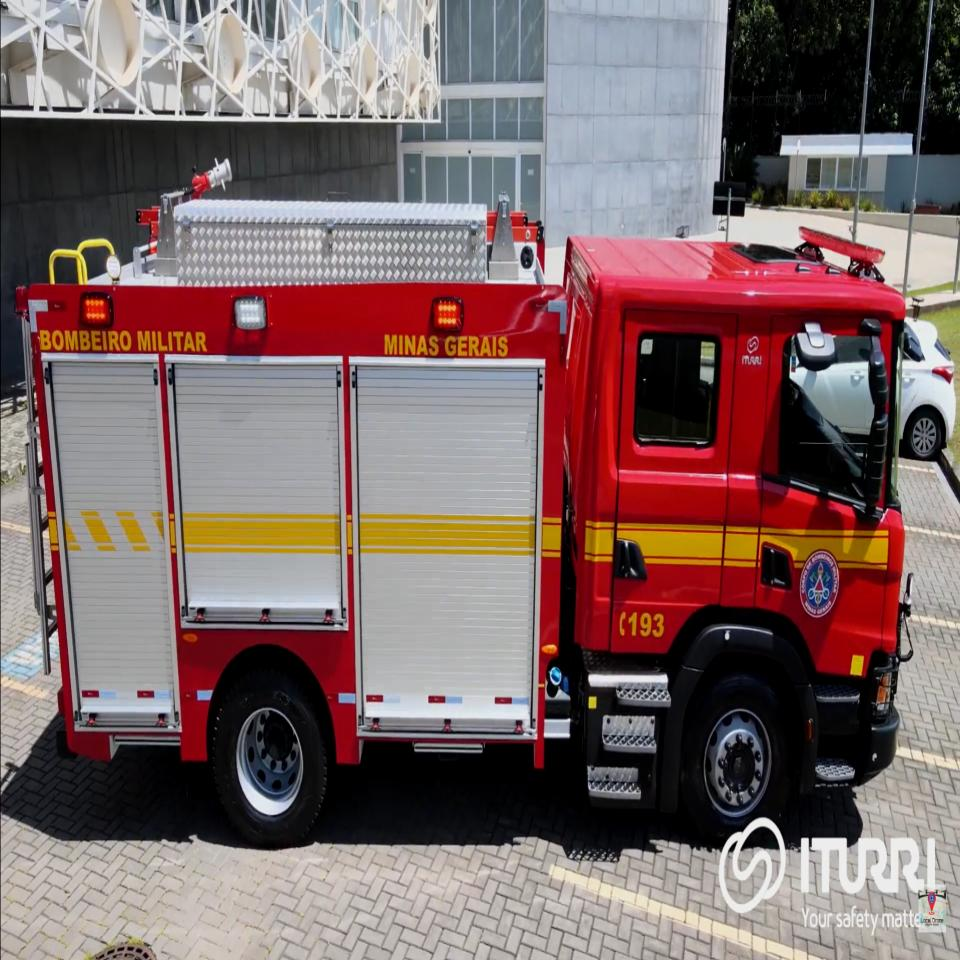bombeiro: (15, 158, 916, 850)
